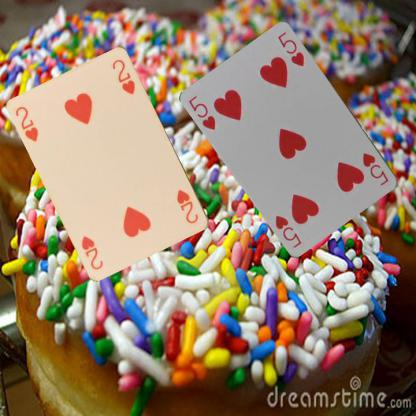2h: (13, 104, 40, 144), (174, 188, 200, 226)
5h: (186, 93, 217, 132), (360, 150, 391, 187)
